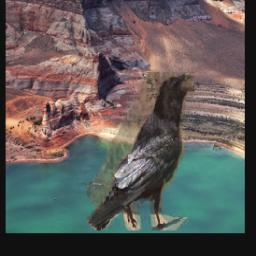Crow: (88, 73, 195, 231)
